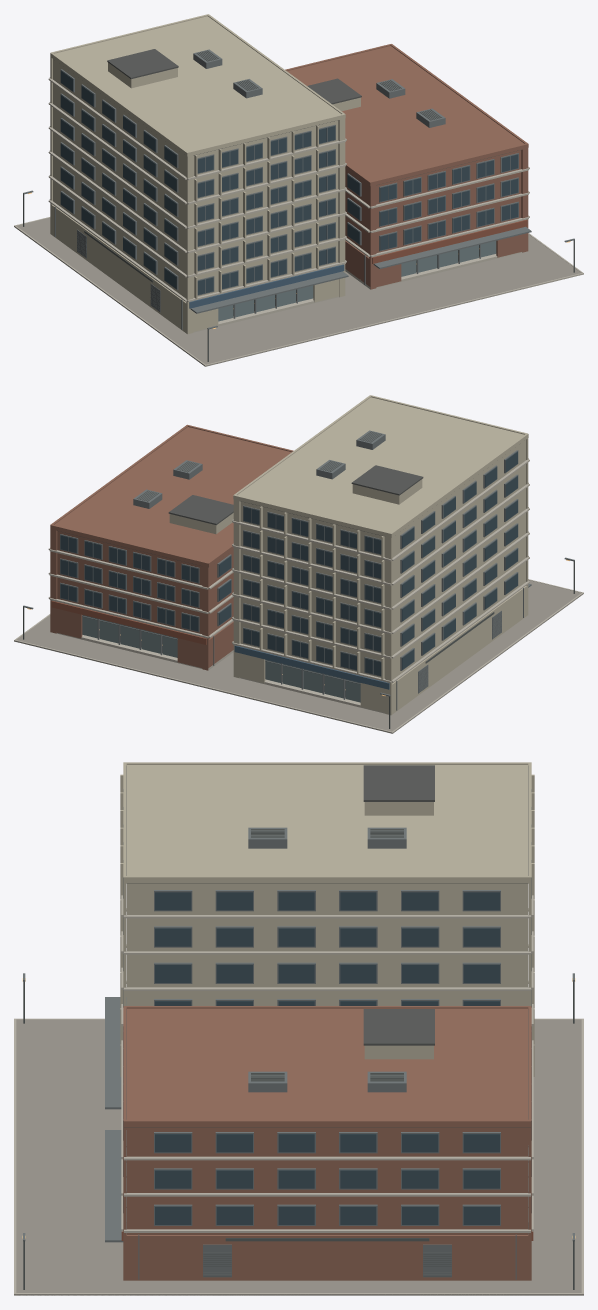
Rendered from block-0-2.glb.
3 views of the same model, one above another, from view 1: azimuth 30°, elevation 25°; view 2: azimuth 150°, elevation 25°; view 3: azimuth 270°, elevation 25° (orthographic). The views are drawn at different scales.
Visible parts, largest first — view 1: block-0-2:stucco, block-0-2:brick, block-0-2:glass, block-0-2:paversGrey, block-0-2:aluminium, block-0-2:concrete, block-0-2:shopGlass, block-0-2:roof, block-0-2:darkSteel, block-0-2:blueTrim, block-0-2:oxideTrim; view 2: block-0-2:stucco, block-0-2:brick, block-0-2:glass, block-0-2:aluminium, block-0-2:concrete, block-0-2:paversGrey, block-0-2:shopGlass, block-0-2:roof, block-0-2:darkSteel, block-0-2:blueTrim, block-0-2:oxideTrim; view 3: block-0-2:brick, block-0-2:stucco, block-0-2:paversGrey, block-0-2:glass, block-0-2:aluminium, block-0-2:concrete, block-0-2:roof, block-0-2:darkSteel.
Boxes of the visible parts, <box> form: block-0-2:stucco: <box>50,14,360,334</box>; block-0-2:brick: <box>285,44,528,289</box>; block-0-2:glass: <box>60,70,518,294</box>; block-0-2:paversGrey: <box>14,218,580,366</box>; block-0-2:aluminium: <box>23,49,574,329</box>; block-0-2:concrete: <box>14,77,583,366</box>; block-0-2:shopGlass: <box>218,241,496,321</box>; block-0-2:roof: <box>107,49,521,185</box>; block-0-2:darkSteel: <box>23,50,574,361</box>; block-0-2:blueTrim: <box>189,264,344,308</box>; block-0-2:oxideTrim: <box>372,220,527,263</box>; block-0-2:stucco: <box>169,395,528,715</box>; block-0-2:brick: <box>50,424,293,670</box>; block-0-2:glass: <box>60,451,517,675</box>; block-0-2:aluminium: <box>23,430,574,710</box>; block-0-2:concrete: <box>14,458,583,733</box>; block-0-2:paversGrey: <box>14,580,583,733</box>; block-0-2:shopGlass: <box>82,615,360,702</box>; block-0-2:roof: <box>57,465,423,567</box>; block-0-2:darkSteel: <box>23,431,574,728</box>; block-0-2:blueTrim: <box>234,645,389,689</box>; block-0-2:oxideTrim: <box>51,601,206,644</box>; block-0-2:brick: <box>123,1006,531,1280</box>; block-0-2:stucco: <box>120,762,534,1076</box>; block-0-2:paversGrey: <box>14,1020,583,1295</box>; block-0-2:glass: <box>155,892,499,1224</box>; block-0-2:aluminium: <box>23,789,574,1279</box>; block-0-2:concrete: <box>14,895,583,1295</box>; block-0-2:roof: <box>124,765,530,1127</box>; block-0-2:darkSteel: <box>23,829,574,1289</box>.
Size of the model in its own units: 48 by 23.31 by 42.
